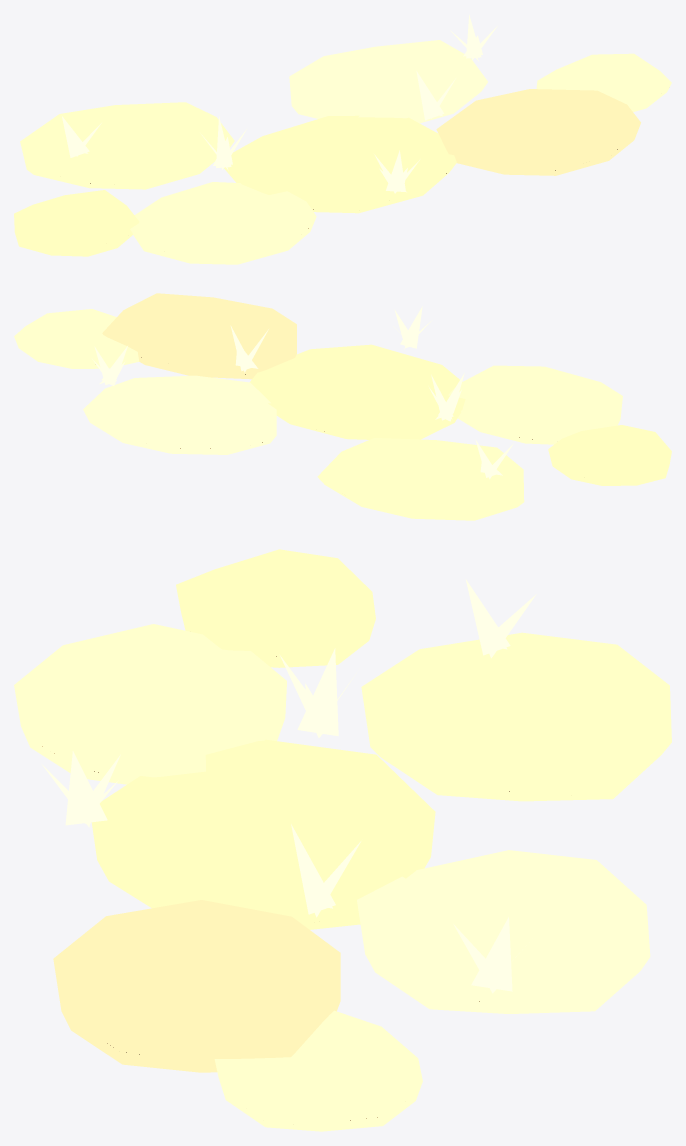
Rendered from terrain_sand_island.gltf.
3 views of the same model, one above another, from view 1: azimuth 30°, elevation 25°; view 2: azimuth 150°, elevation 25°; view 3: azimuth 270°, elevation 25° (orthographic). The views are drawn at different scales.
Visible parts, largest first — view 1: terrain_sand_island; view 2: terrain_sand_island; view 3: terrain_sand_island.
Boxes of the visible parts, <box> form: terrain_sand_island: <box>14,14,671,264</box>; terrain_sand_island: <box>14,293,671,520</box>; terrain_sand_island: <box>14,549,671,1131</box>.
Size of the model in its own units: 3.69 by 0.3176 by 1.84.
